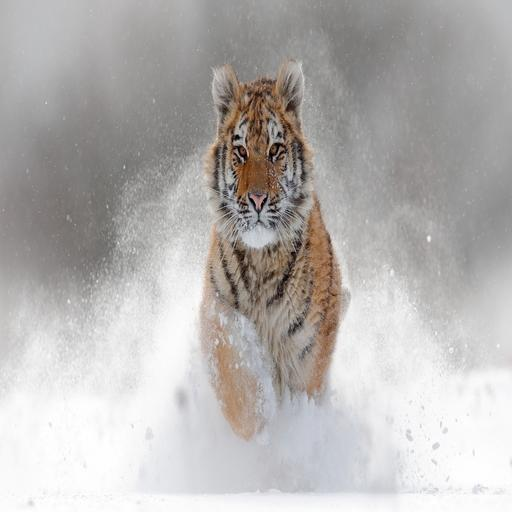Tiger: (178, 52, 349, 485)
